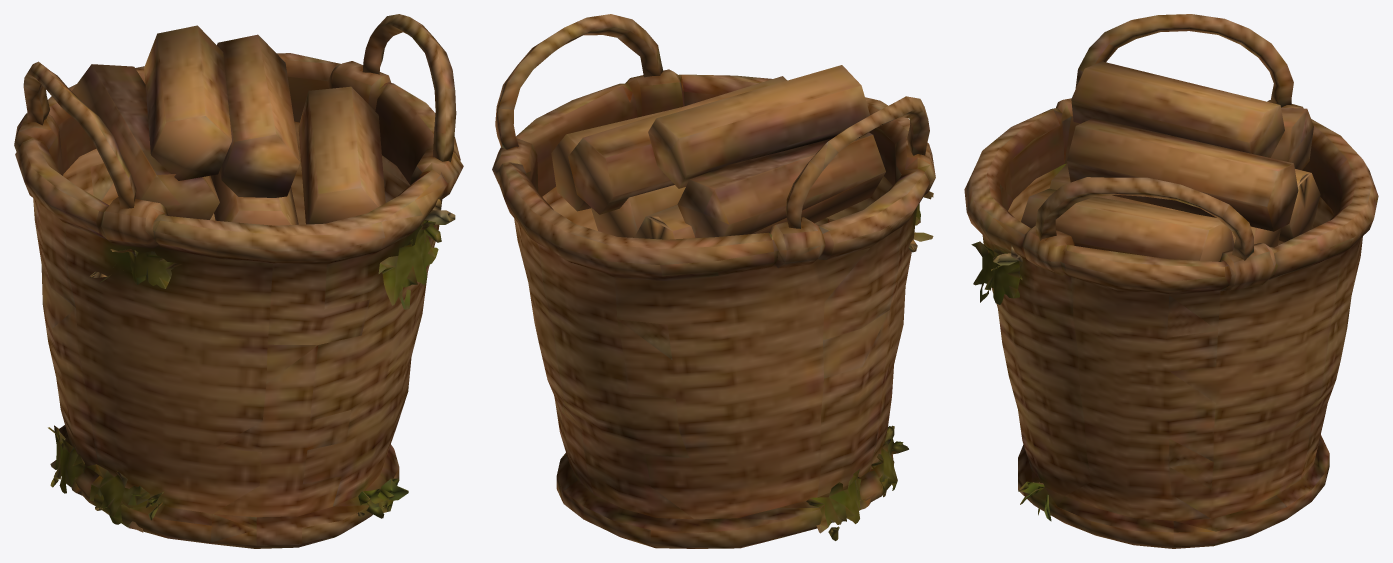
The model's file is wyn_furn_log_basket.glb.
3 renders of one model, left to right at view 1: azimuth 30°, elevation 25°; view 2: azimuth 150°, elevation 25°; view 3: azimuth 270°, elevation 25°, orthographic. The views are drawn at different scales.
Parts seen in each view (by area): view 1: tripo_node_372fec91-c011-4702-bf45-7702e847f36e; view 2: tripo_node_372fec91-c011-4702-bf45-7702e847f36e; view 3: tripo_node_372fec91-c011-4702-bf45-7702e847f36e.
Boxes of the visible parts, x1,y1,x2,y2 form: tripo_node_372fec91-c011-4702-bf45-7702e847f36e: [14, 14, 463, 548]; tripo_node_372fec91-c011-4702-bf45-7702e847f36e: [492, 14, 935, 548]; tripo_node_372fec91-c011-4702-bf45-7702e847f36e: [964, 14, 1378, 548].
Size of the model in its own units: 0.5576 by 0.6 by 0.5637.
Materials: 1 (1 with a texture image).
